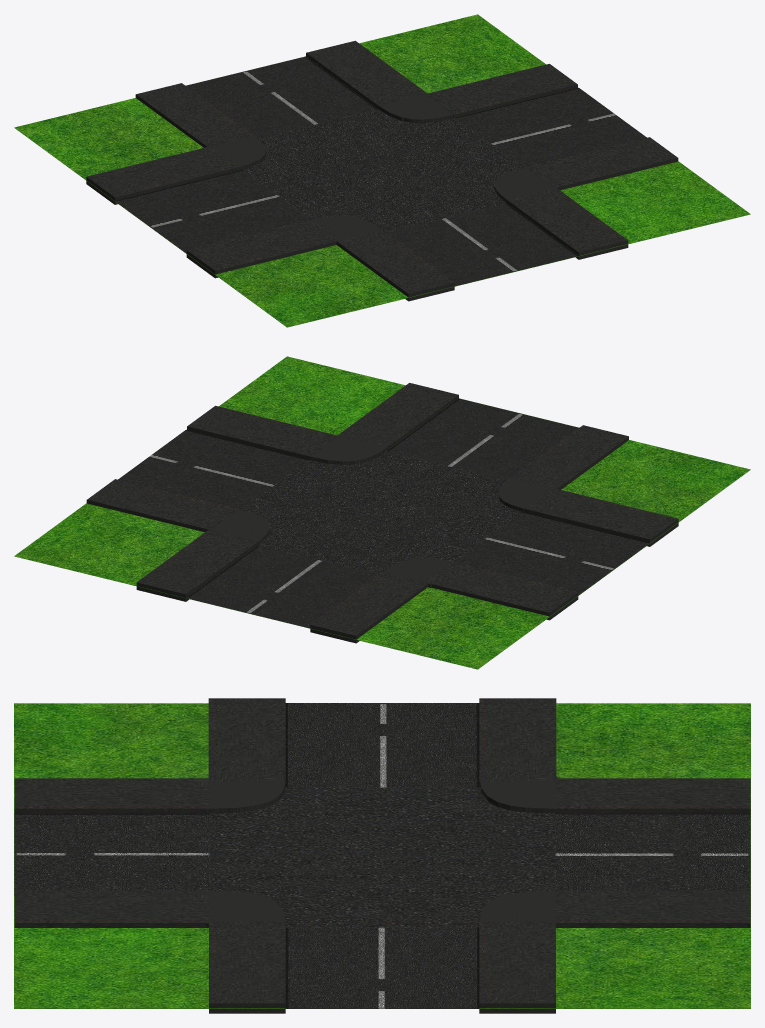
File: with_spheres.FBX
The picture shows the model from 3 angles, top to bottom: view 1: azimuth 30°, elevation 25°; view 2: azimuth 150°, elevation 25°; view 3: azimuth 270°, elevation 25°; orthographic projection. The views are drawn at different scales.
Parts seen in each view (by area): view 1: Box003; view 2: Box003; view 3: Box003.
Part boxes in pixels (bbox=[...]): Box003: bbox=[14, 14, 750, 327]; Box003: bbox=[14, 356, 750, 669]; Box003: bbox=[14, 698, 750, 1013].
Bounding box in the file's own units: 2064 × 31.91 × 2103.
